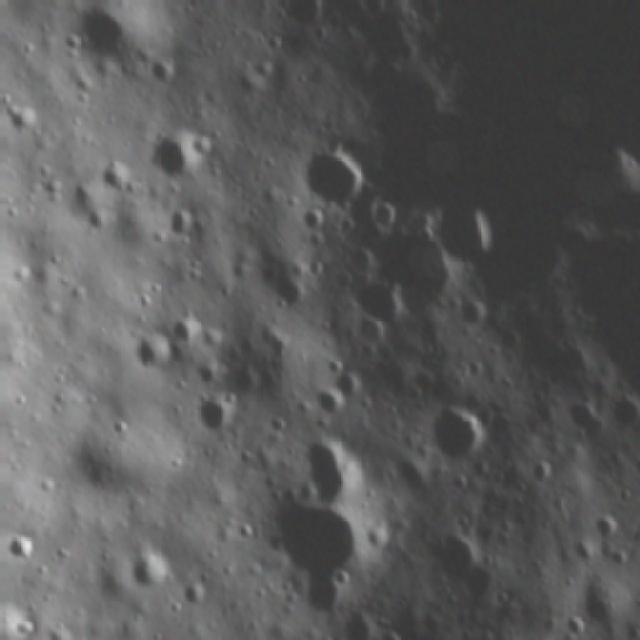crater: (249, 493, 373, 585), (363, 219, 460, 319), (58, 0, 158, 71), (286, 432, 380, 505), (419, 399, 493, 466), (430, 198, 495, 273), (297, 140, 368, 202), (147, 126, 204, 183), (292, 570, 348, 616), (123, 326, 171, 374), (264, 270, 308, 318), (188, 394, 238, 435), (124, 548, 170, 592), (559, 396, 604, 439), (138, 46, 178, 94), (304, 378, 348, 418), (0, 102, 45, 140), (328, 366, 368, 406), (162, 312, 208, 346), (606, 388, 640, 434), (344, 311, 385, 349), (446, 295, 488, 331), (0, 595, 31, 640), (0, 530, 35, 564), (164, 202, 191, 240), (556, 609, 589, 640), (176, 578, 207, 610), (590, 511, 619, 542), (372, 199, 393, 230)
